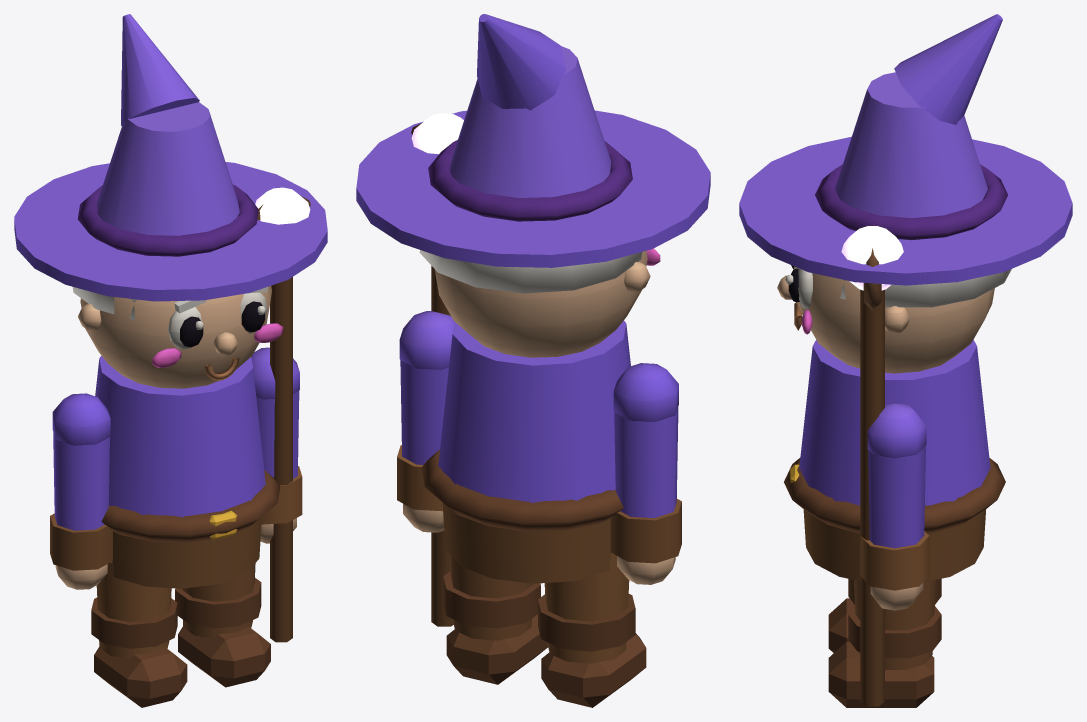
File: hero_sporrin.glb
3 views of the same model, side by side, from view 1: azimuth 30°, elevation 25°; view 2: azimuth 150°, elevation 25°; view 3: azimuth 270°, elevation 25° (orthographic). The views are drawn at different scales.
Visible parts, largest first — view 1: body_t0_palette, armr_t0_palette, arml_t0_palette, legl_t0_palette, legr_t0_palette, armr_t0_glow_violet; view 2: body_t0_palette, arml_t0_palette, legl_t0_palette, armr_t0_palette, legr_t0_palette, armr_t0_glow_violet; view 3: body_t0_palette, armr_t0_palette, legr_t0_palette, armr_t0_glow_violet, legl_t0_palette.
Boxes of the visible parts, left/top/right/bottom form: body_t0_palette: left=14, top=14, right=327, bottom=588; armr_t0_palette: left=251, top=196, right=310, bottom=642; arml_t0_palette: left=50, top=393, right=112, bottom=589; legl_t0_palette: left=91, top=562, right=187, bottom=707; legr_t0_palette: left=175, top=563, right=270, bottom=687; armr_t0_glow_violet: left=255, top=187, right=310, bottom=224; body_t0_palette: left=356, top=14, right=710, bottom=583; arml_t0_palette: left=610, top=363, right=681, bottom=584; legl_t0_palette: left=538, top=553, right=646, bottom=707; armr_t0_palette: left=397, top=123, right=454, bottom=626; legr_t0_palette: left=443, top=555, right=547, bottom=684; armr_t0_glow_violet: left=411, top=113, right=463, bottom=154; body_t0_palette: left=739, top=14, right=1072, bottom=582; armr_t0_palette: left=860, top=248, right=929, bottom=706; legr_t0_palette: left=828, top=580, right=941, bottom=707; armr_t0_glow_violet: left=841, top=226, right=903, bottom=290; legl_t0_palette: left=828, top=578, right=941, bottom=652.
Bounding box in the file's own units: 0.3 × 0.6592 × 0.3.
